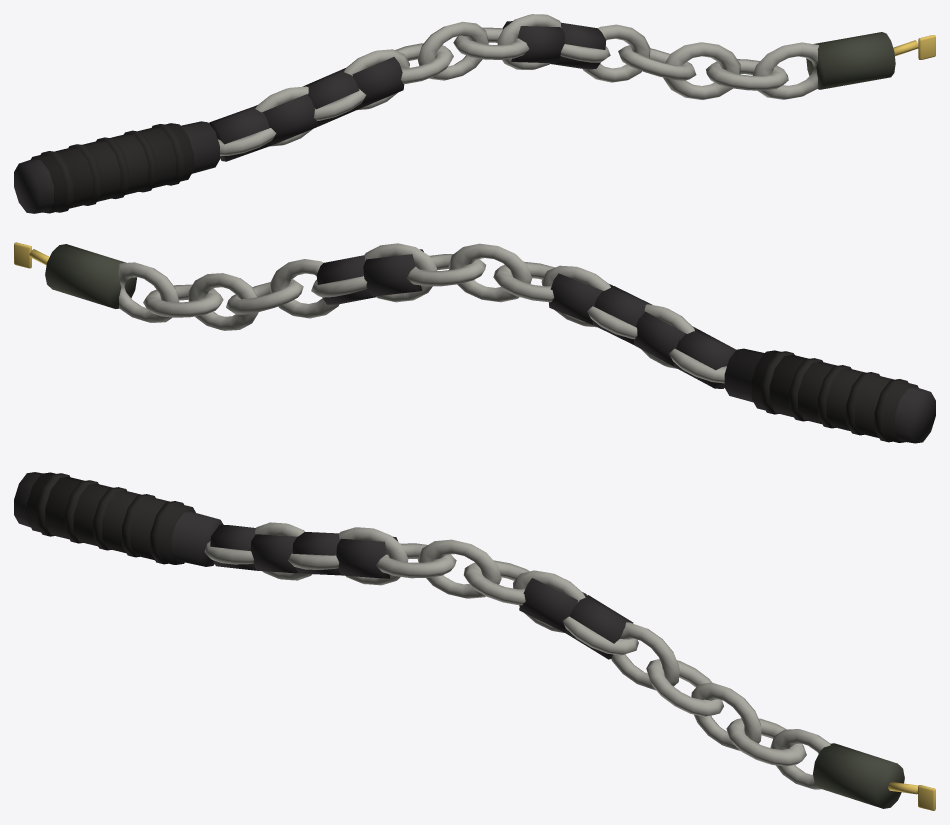
The model's file is item_bike_lock_chain.glb.
3 renders of one model, top to bottom at view 1: azimuth 30°, elevation 25°; view 2: azimuth 150°, elevation 25°; view 3: azimuth 330°, elevation 25°, orthographic. The views are drawn at different scales.
Parts seen in each view (by area): view 1: grip, hang_end_lock, sleeve, hang_11, hang_5, hang_13, hang_sleeve_1, hang_12, hang_sleeve_3, hang_sleeve_0, hang_sleeve_7, hang_9 (+16 smaller); view 2: grip, hang_end_lock, sleeve, hang_5, hang_11, hang_sleeve_7, hang_13, hang_sleeve_0, hang_sleeve_3, hang_9, hang_12, hang_sleeve_1 (+16 smaller); view 3: grip, hang_end_lock, sleeve, hang_5, hang_11, hang_10, hang_9, hang_12, hang_sleeve_7, hang_sleeve_3, hang_sleeve_8, hang_4 (+11 smaller).
Part boxes in pixels (bbox=[...]): grip: bbox=[31, 123, 193, 213]; hang_end_lock: bbox=[806, 32, 895, 89]; sleeve: bbox=[14, 121, 219, 213]; hang_11: bbox=[663, 42, 740, 99]; hang_5: bbox=[418, 21, 488, 80]; hang_13: bbox=[753, 42, 818, 99]; hang_sleeve_1: bbox=[254, 94, 317, 144]; hang_12: bbox=[706, 59, 788, 90]; hang_sleeve_3: bbox=[342, 57, 404, 107]; hang_sleeve_0: bbox=[209, 106, 271, 161]; hang_sleeve_7: bbox=[502, 21, 564, 63]; hang_9: bbox=[583, 24, 650, 82]; grip: bbox=[751, 350, 918, 442]; hang_end_lock: bbox=[45, 244, 136, 308]; sleeve: bbox=[724, 348, 935, 443]; hang_5: bbox=[448, 243, 532, 302]; hang_11: bbox=[188, 273, 258, 330]; hang_sleeve_7: bbox=[363, 249, 423, 296]; hang_13: bbox=[118, 262, 179, 322]; hang_sleeve_0: bbox=[674, 329, 735, 388]; hang_sleeve_3: bbox=[549, 273, 612, 324]; hang_9: bbox=[270, 259, 339, 318]; hang_12: bbox=[143, 284, 223, 317]; hang_sleeve_1: bbox=[633, 311, 698, 366]; grip: bbox=[27, 472, 195, 564]; hang_end_lock: bbox=[813, 743, 904, 808]; sleeve: bbox=[14, 472, 223, 566]; hang_5: bbox=[417, 539, 501, 598]; hang_11: bbox=[691, 682, 761, 751]; hang_10: bbox=[646, 659, 723, 716]; hang_9: bbox=[611, 622, 679, 690]; hang_12: bbox=[726, 718, 806, 766]; hang_sleeve_7: bbox=[519, 578, 586, 632]; hang_sleeve_3: bbox=[336, 536, 397, 578]; hang_sleeve_8: bbox=[565, 595, 633, 659]; hang_4: bbox=[376, 543, 456, 578].
Bounding box in the file's own units: 0.9382 × 0.1569 × 0.0764.
